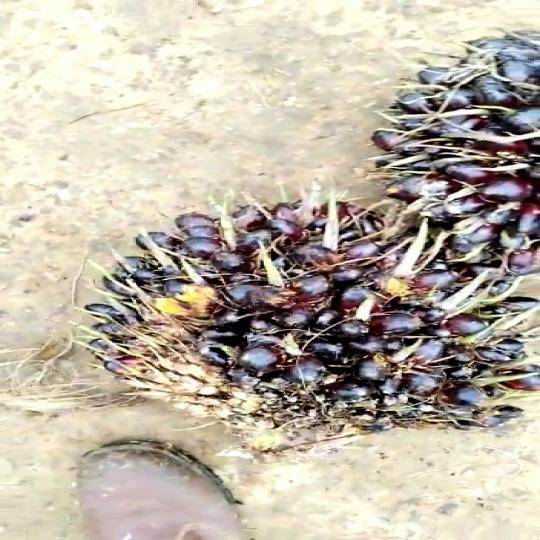mentah: (84, 181, 540, 452), (357, 19, 540, 276)
